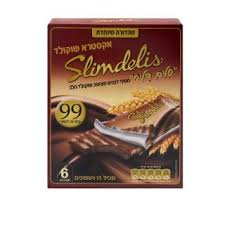Chocolate: (46, 17, 181, 188)
